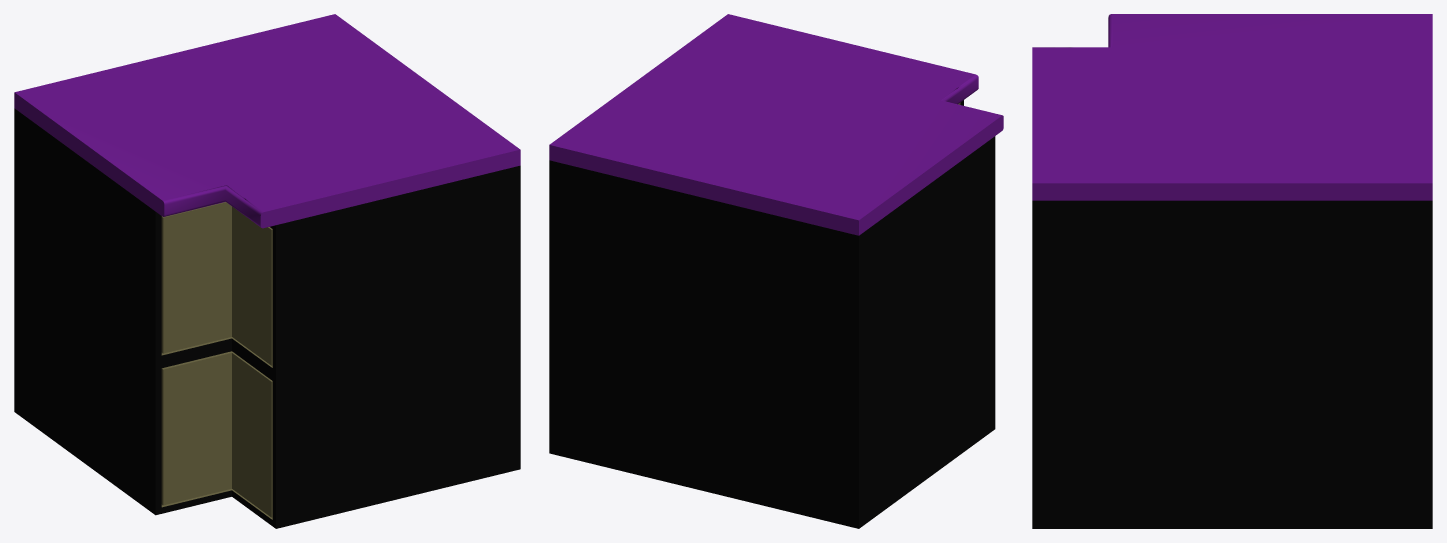
The model's file is MesaEsquina.fbx.
3 views of the same model, side by side, from view 1: azimuth 30°, elevation 25°; view 2: azimuth 150°, elevation 25°; view 3: azimuth 270°, elevation 25° (orthographic). The views are drawn at different scales.
Visible parts, largest first — view 1: MesaEsquina; view 2: MesaEsquina; view 3: MesaEsquina.
Boxes of the visible parts, x1,y1,x2,y2 form: MesaEsquina: (14, 14, 520, 528); MesaEsquina: (549, 14, 1003, 528); MesaEsquina: (1032, 14, 1432, 528).
Size of the model in its own units: 1.05 by 1 by 1.05.
